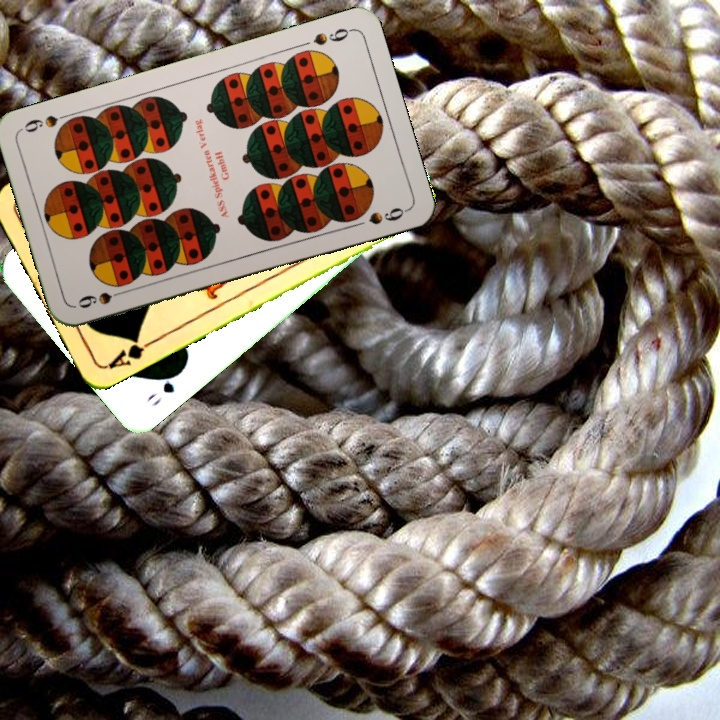GA: (103, 331, 158, 372)
GO: (142, 365, 186, 409)
S9: (73, 285, 131, 311), (309, 24, 355, 48)
